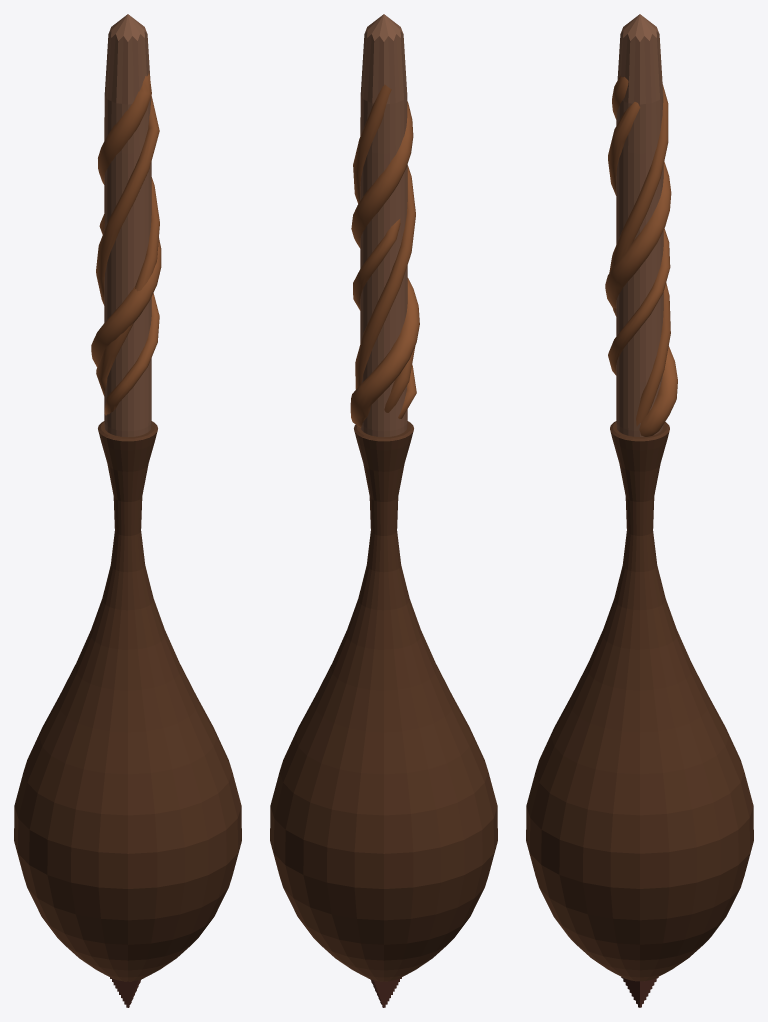
File: Wand 974.glb
The picture shows the model from 3 angles, left to right: view 1: azimuth 30°, elevation 25°; view 2: azimuth 150°, elevation 25°; view 3: azimuth 270°, elevation 25°; orthographic projection.
Visible parts, largest first — view 1: GeneratedWand; view 2: GeneratedWand; view 3: GeneratedWand.
Boxes of the visible parts, x1,y1,x2,y2 form: GeneratedWand: [14, 14, 241, 1007]; GeneratedWand: [270, 14, 497, 1007]; GeneratedWand: [526, 14, 753, 1007].
Bounding box in the file's own units: 0.1026 × 0.4932 × 0.1026.
